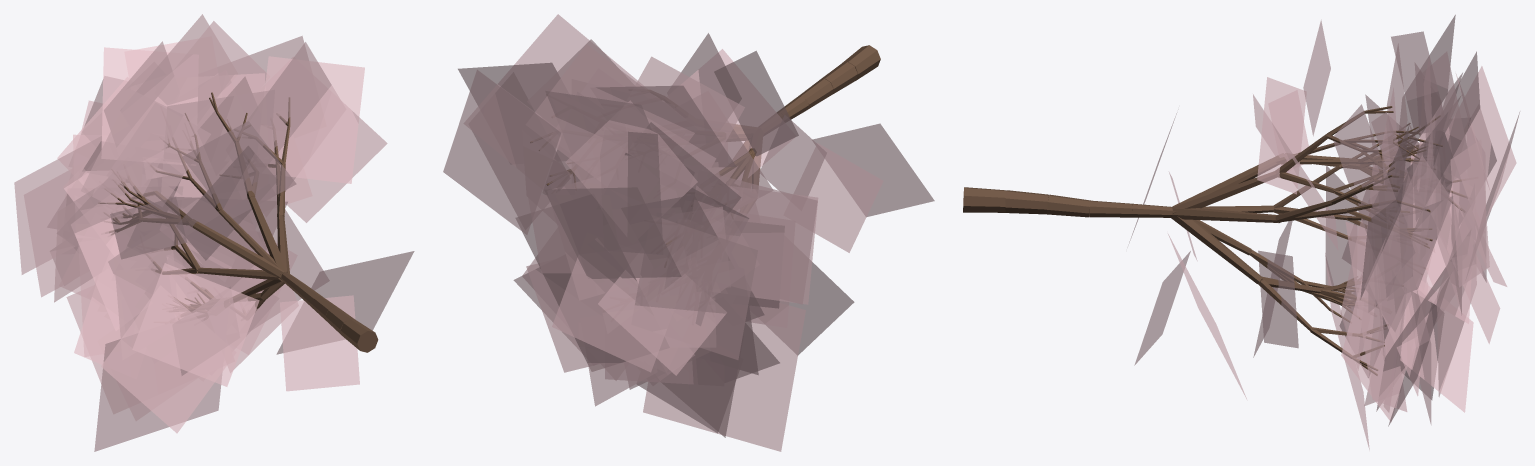
The model's file is peach_tree_0.glb.
The picture shows the model from 3 angles, left to right: view 1: azimuth 30°, elevation 25°; view 2: azimuth 150°, elevation 25°; view 3: azimuth 270°, elevation 25°; orthographic projection. The views are drawn at different scales.
Parts seen in each view (by area): view 1: PeachBlossoms, PeachBark; view 2: PeachBlossoms, PeachBark; view 3: PeachBlossoms, PeachBark.
Part boxes in pixels (<box>): PeachBlossoms: <box>14,14,414,451</box>; PeachBark: <box>98,92,378,352</box>; PeachBlossoms: <box>443,14,934,451</box>; PeachBark: <box>530,45,880,244</box>; PeachBlossoms: <box>1129,15,1519,449</box>; PeachBark: <box>963,106,1465,375</box>.
Bounding box in the file's own units: 7.44 × 7.6 × 9.14.
